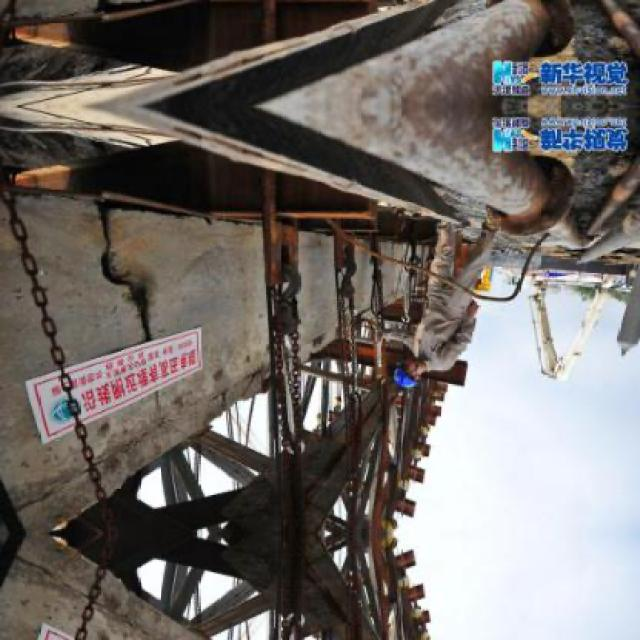con casco: (341, 353, 452, 427)
